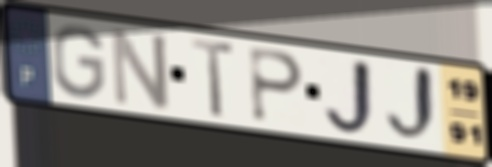G: (50, 23, 107, 102)
J: (320, 56, 380, 140), (383, 62, 442, 147)
N: (109, 24, 172, 112)
P: (247, 44, 307, 126)
T: (188, 36, 237, 121)
